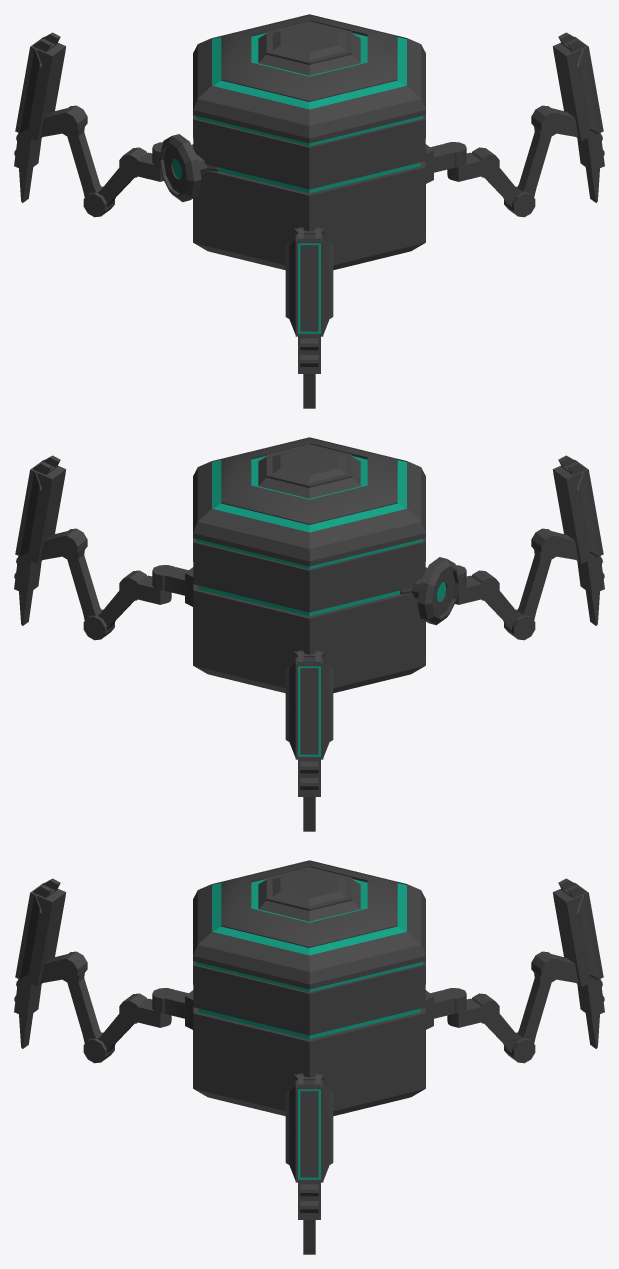
Rendered from AvatarPhageDefault.FBX.
The picture shows the model from 3 angles, top to bottom: view 1: azimuth 30°, elevation 25°; view 2: azimuth 150°, elevation 25°; view 3: azimuth 270°, elevation 25°; orthographic projection.
Parts seen in each view (by area): view 1: Body; view 2: Body; view 3: Body.
Boxes of the visible parts, x1,y1,x2,y2 form: Body: [14, 14, 604, 408]; Body: [14, 437, 604, 831]; Body: [14, 860, 604, 1254].
Size of the model in its own units: 28.67 by 14.28 by 32.99.
